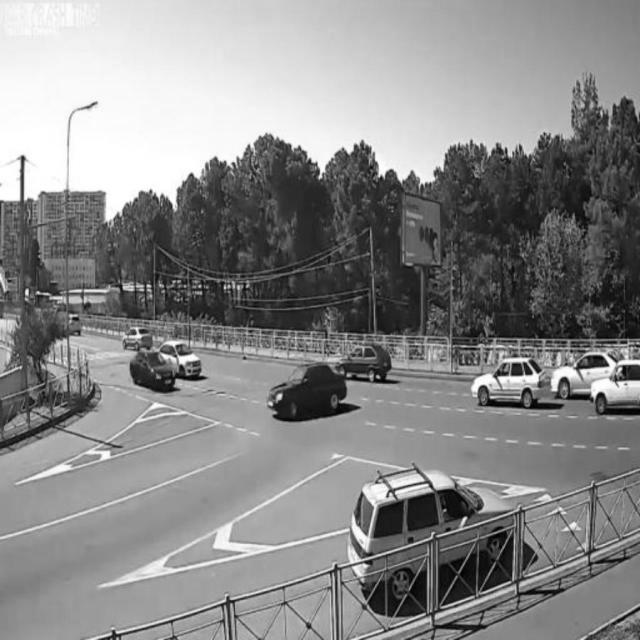vehicle: (346, 477, 513, 601), (268, 357, 346, 425), (468, 358, 545, 404), (553, 346, 610, 402), (336, 339, 392, 390), (591, 360, 640, 416), (130, 347, 176, 389), (165, 337, 202, 379), (120, 323, 154, 353)
